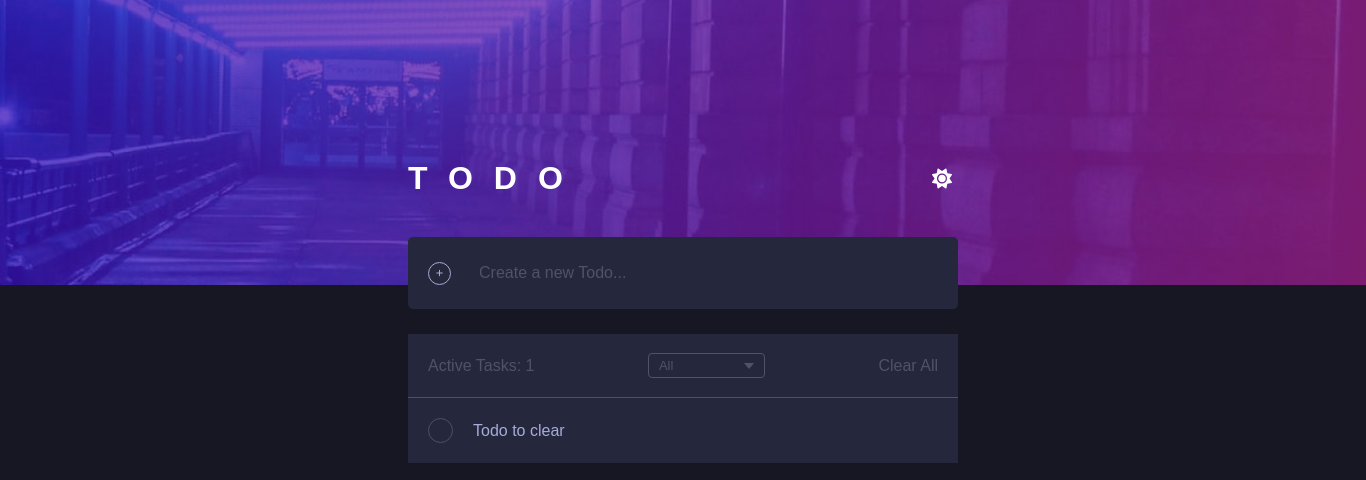
Test: clear all › removes all todos from the list
The width and height of the screenshot is (1366, 480).
Check: the text "Todo to clear" is shown, box [473,422,565,438]
Click the text "Clear All".
click(908, 365)  # box [878,356,938,374]
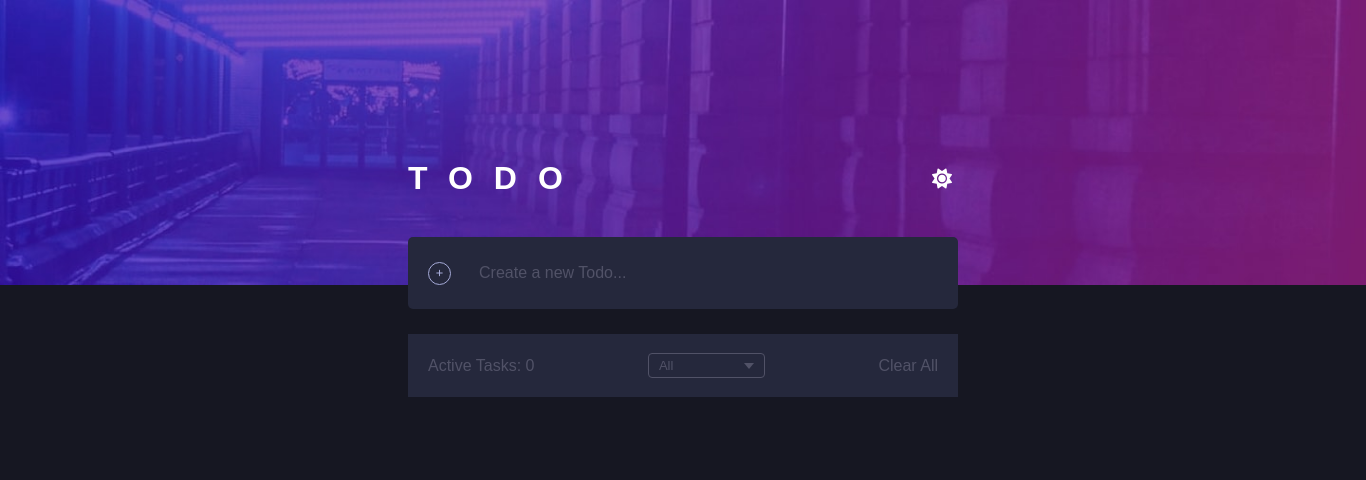
Check: the text "Todo to clear" is gone
